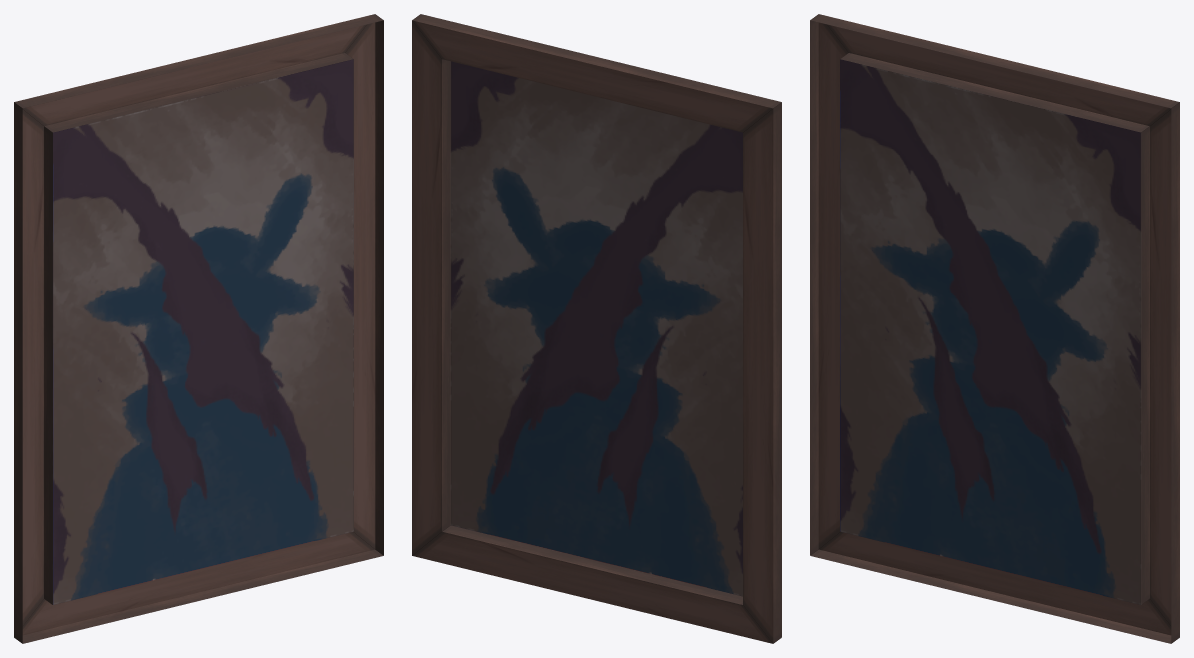
Rendered from big_painting.fbx.
The picture shows the model from 3 angles, left to right: view 1: azimuth 30°, elevation 25°; view 2: azimuth 150°, elevation 25°; view 3: azimuth 330°, elevation 25°; orthographic projection.
Visible parts, largest first — view 1: big_painting; view 2: big_painting; view 3: big_painting.
Boxes of the visible parts, <box> form: big_painting: <box>14,14,383,643</box>; big_painting: <box>412,14,781,643</box>; big_painting: <box>810,14,1179,643</box>.
Size of the model in its own units: 2.4 by 0.1 by 3.4.
